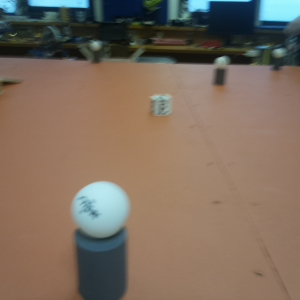obstacle: (67, 181, 132, 298), (212, 56, 232, 88), (272, 50, 285, 73), (90, 43, 102, 64)
slope: (1, 76, 27, 84)
